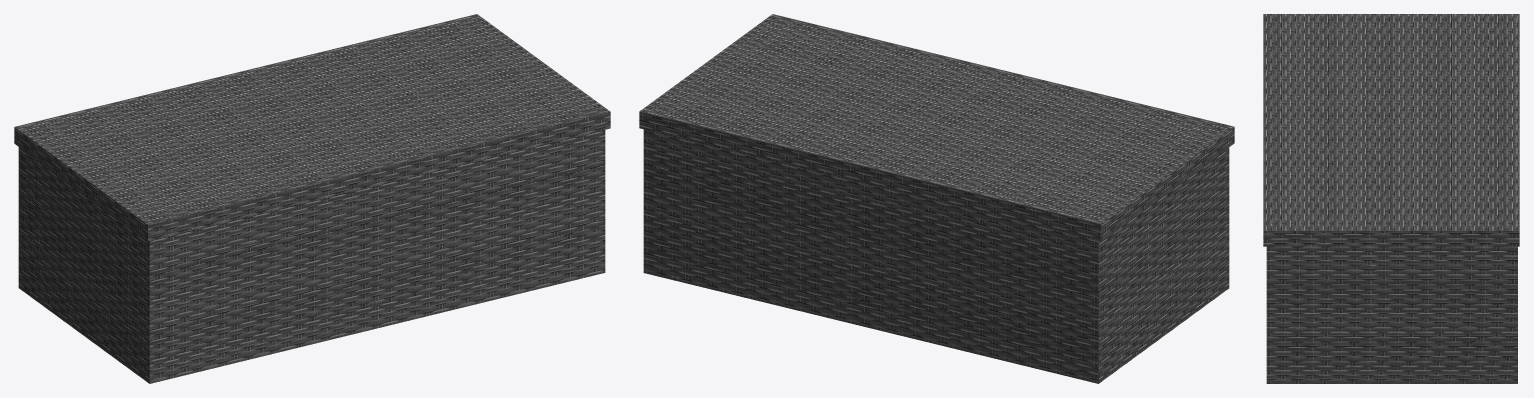
The model's file is sweethome3d-scopia-rattan-table.glb.
3 views of the same model, side by side, from view 1: azimuth 30°, elevation 25°; view 2: azimuth 150°, elevation 25°; view 3: azimuth 270°, elevation 25° (orthographic). The views are drawn at different scales.
Parts seen in each view (by area): view 1: table_Cube.001; view 2: table_Cube.001; view 3: table_Cube.001.
Part boxes in pixels (x1=…): table_Cube.001: x1=14, y1=14, x2=610, y2=383; table_Cube.001: x1=639, y1=14, x2=1234, y2=383; table_Cube.001: x1=1263, y1=14, x2=1519, y2=383.
Bounding box in the file's own units: 120 × 40 × 60.
Materials: 1 (1 with a texture image).
